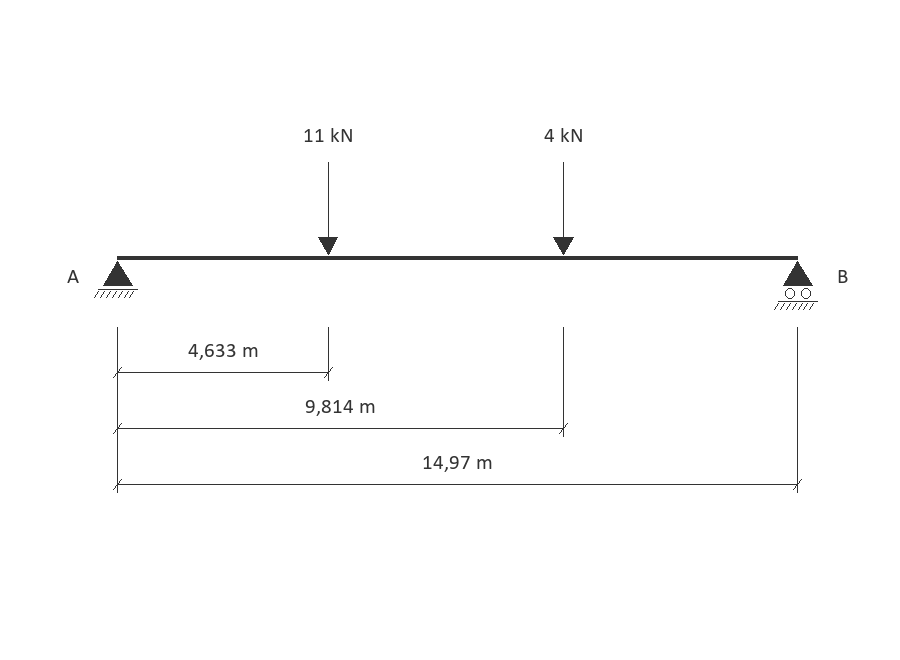pin_support: (94, 261, 138, 298)
point_load: (553, 162, 574, 255), (318, 162, 338, 255)
roller_support: (774, 261, 818, 310)
